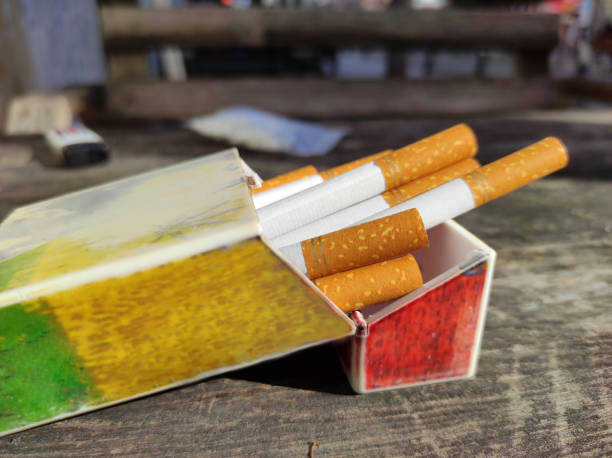cigarette: (0, 146, 500, 438), (252, 122, 478, 241), (350, 135, 568, 230), (267, 156, 481, 248), (276, 207, 431, 280), (250, 149, 394, 211), (313, 253, 424, 312), (248, 162, 321, 195)
